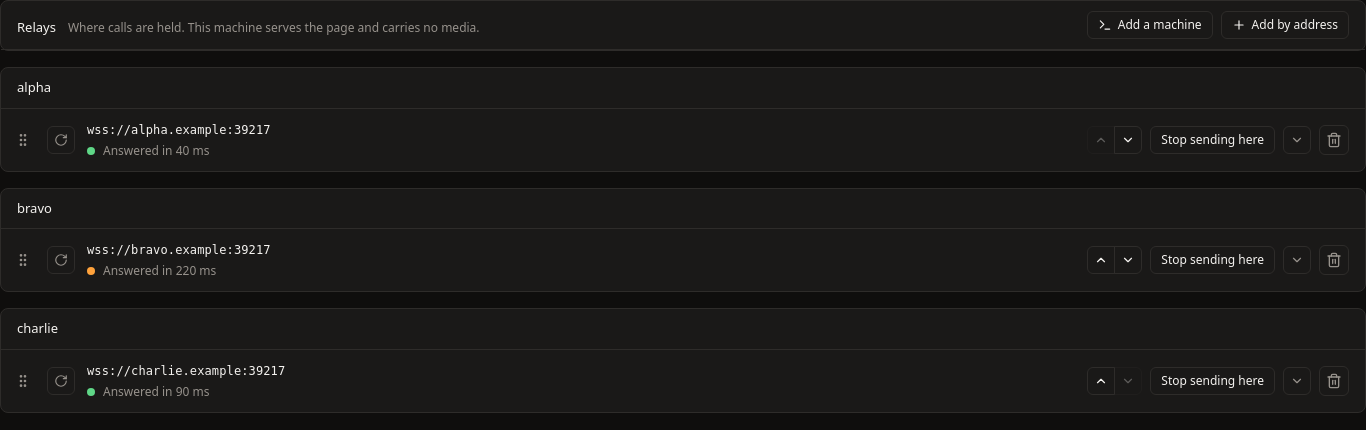
Test case: a relay's own button › measures that relay and leaves the rest of the fleet alone
The image size is (1366, 430).
Check: the text "wss://bravo.example:39217" is shown, box [87, 241, 271, 259]
What coordinates should you click on to do the following:
click the button named "Measure again" next to "wss://bravo.example:39217"
I would click on:
 (61, 260)
Its box is [47, 246, 75, 274].
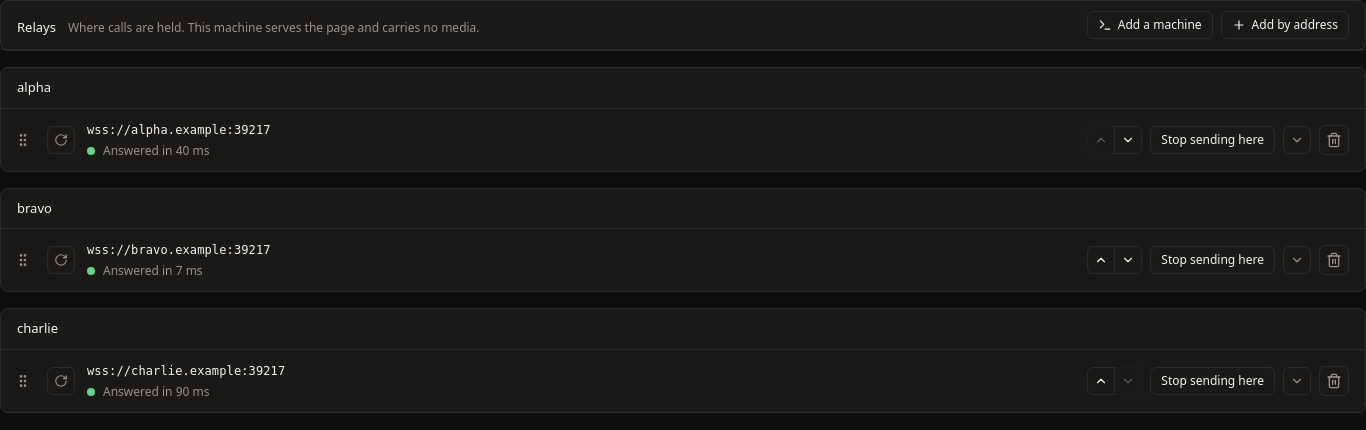
Check: the text "Answered in 40 ms" is shown, box [87, 142, 210, 158]
Check: the text "Answered in 7 ms" is shown, box [87, 262, 203, 279]
